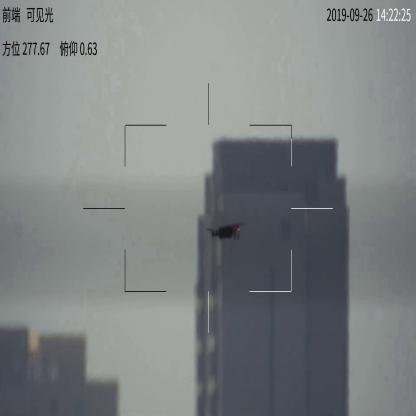uav: (205, 219, 246, 244)
